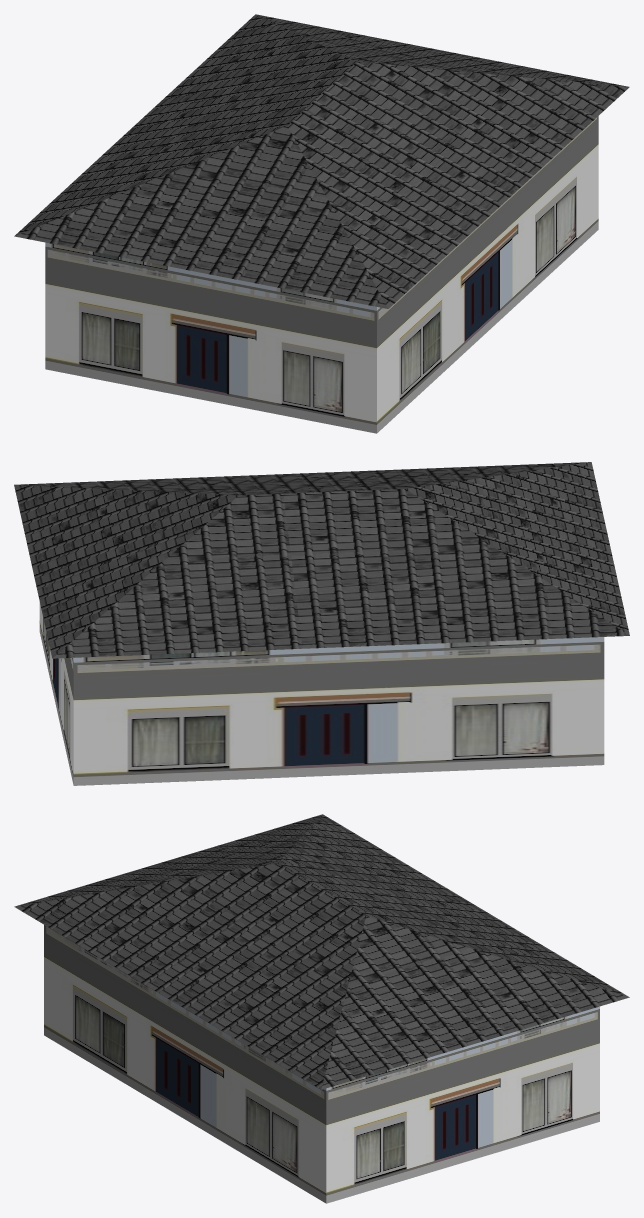
3 views of the same model, one above another, from view 1: azimuth 30°, elevation 25°; view 2: azimuth 150°, elevation 25°; view 3: azimuth 270°, elevation 25° (orthographic). The views are drawn at different scales.
Parts seen in each view (by area): view 1: CityEngineMaterial_8_m, CityEngineMaterial_7_m; view 2: CityEngineMaterial_8_m, CityEngineMaterial_7_m; view 3: CityEngineMaterial_8_m, CityEngineMaterial_7_m.
Part boxes in pixels (bbox=[...]): CityEngineMaterial_8_m: bbox=[14, 14, 629, 308]; CityEngineMaterial_7_m: bbox=[45, 116, 598, 433]; CityEngineMaterial_8_m: bbox=[14, 462, 629, 658]; CityEngineMaterial_7_m: bbox=[39, 602, 604, 785]; CityEngineMaterial_8_m: bbox=[14, 814, 629, 1089]; CityEngineMaterial_7_m: bbox=[44, 925, 599, 1203].
Size of the model in its own units: 28.34 by 9.06 by 26.76.
